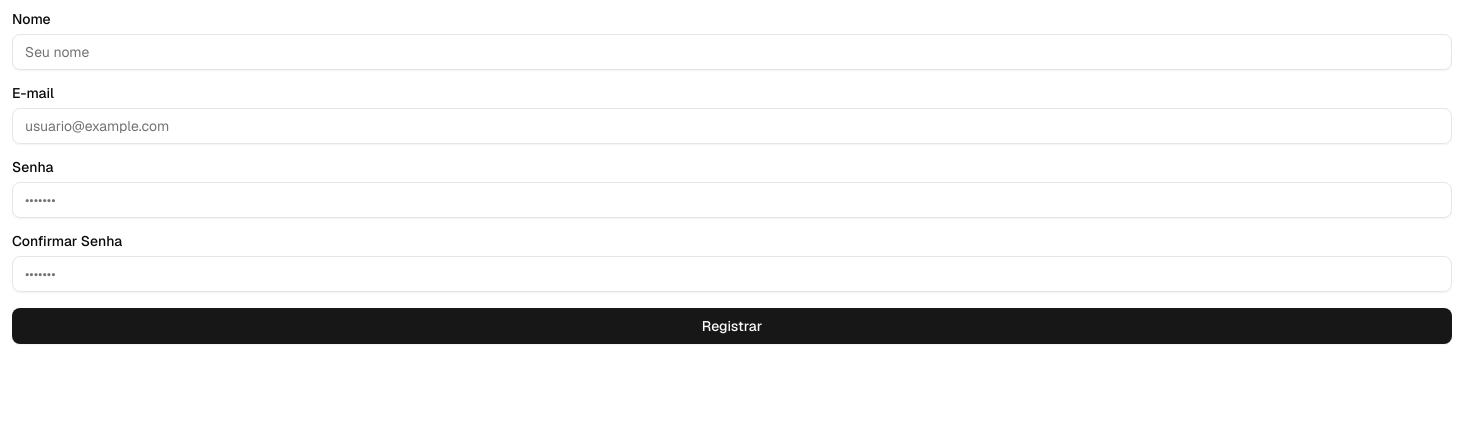
RegisterForm › shows validation error for mismatched passwords
Type "StrongPass123" into the password field labelled "Senha".
click(732, 200); type("StrongPass123")  # box [12,182,1452,218]
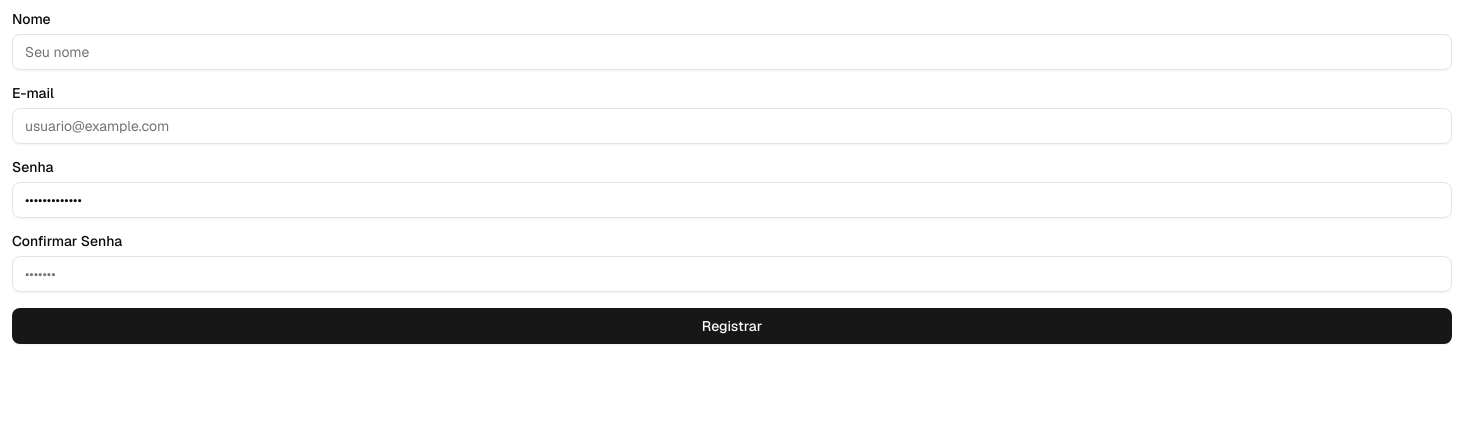
Type "DifferentPass123" into the password field labelled "Confirmar Senha".
click(732, 274); type("DifferentPass123")  # box [12,256,1452,292]
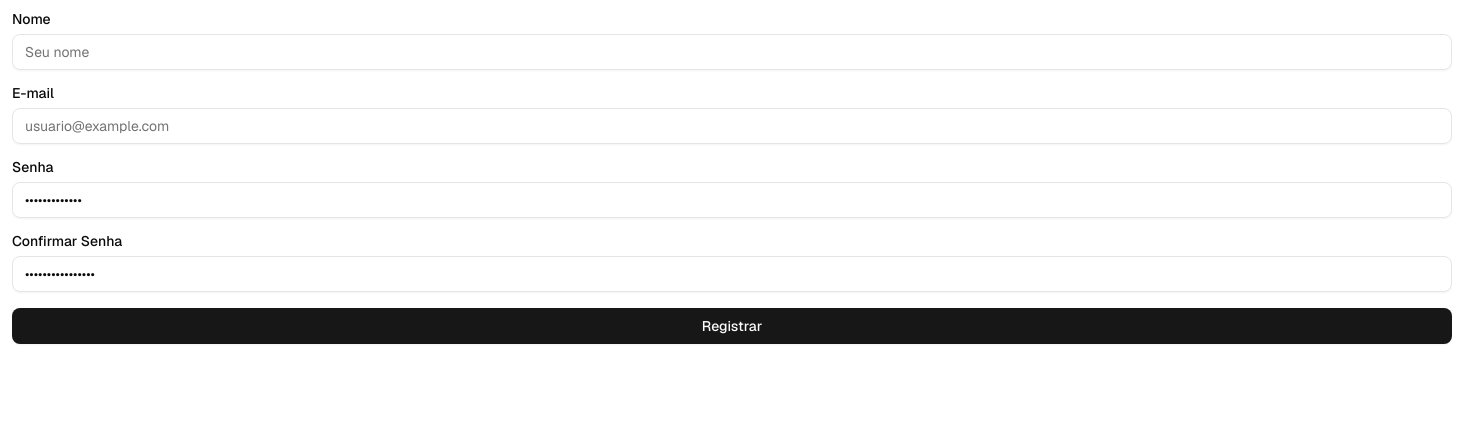
Click the button "Registrar".
click(732, 326)  # box [12,308,1452,344]
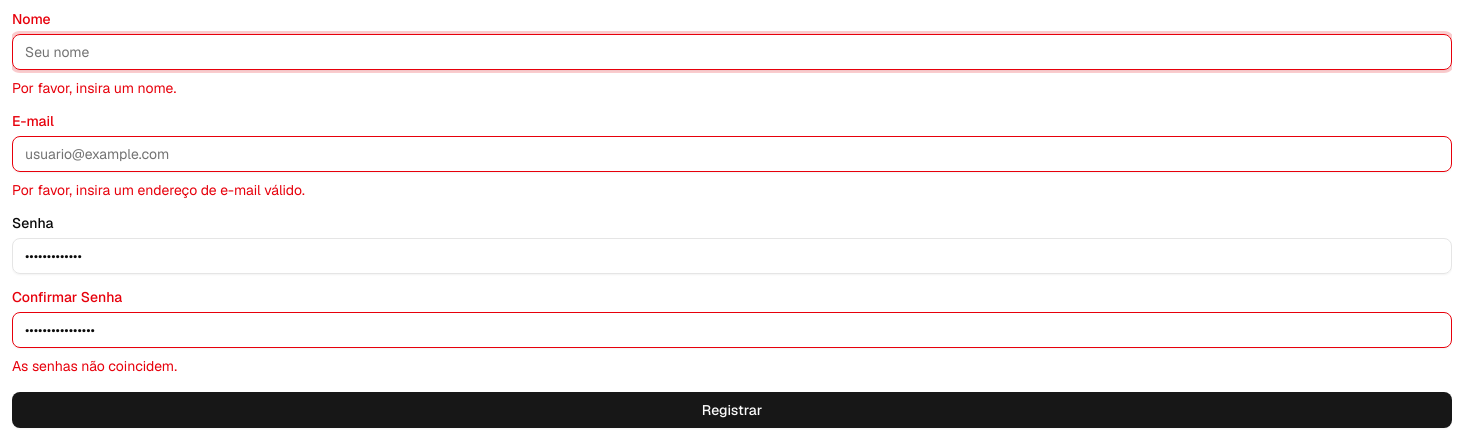
Expected: the text "As senhas não coincidem." is shown, [12,357,177,375]
